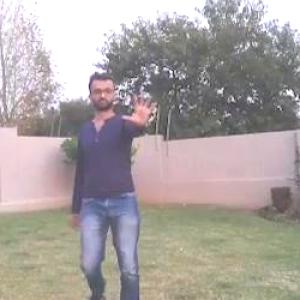follow_hand: (120, 89, 162, 130)
